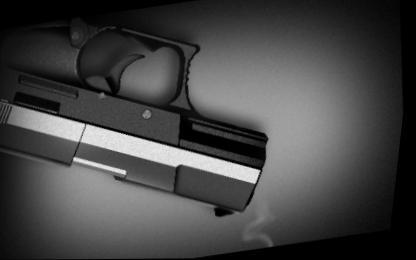pistol: (0, 0, 291, 256)
